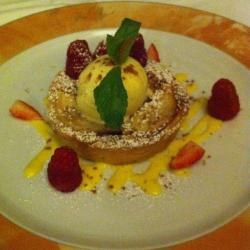apple_pie: (36, 35, 197, 173)
